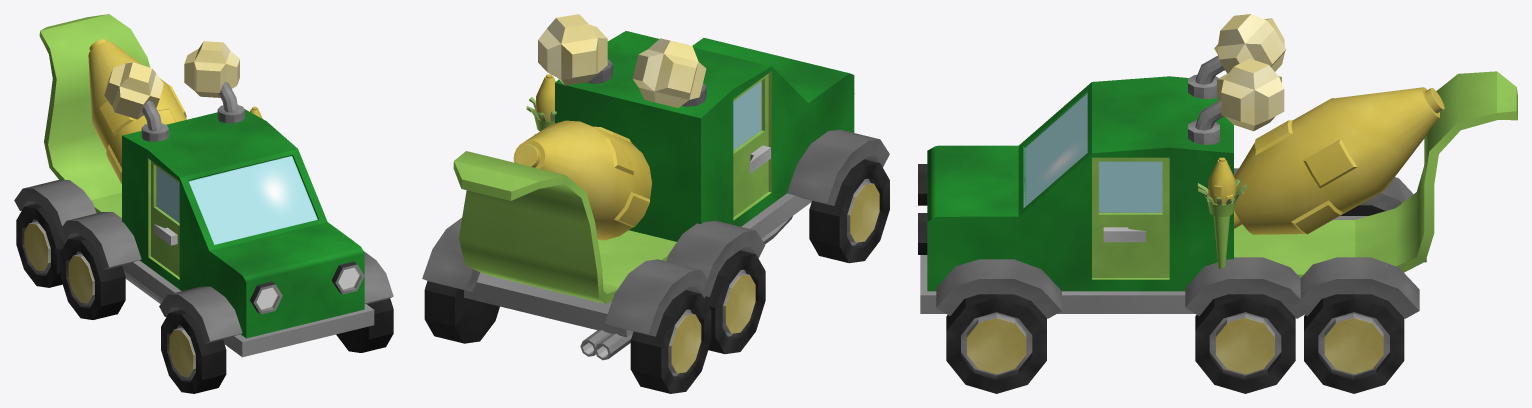
Rendered from corn_mobile_v1.fbx.
3 renders of one model, left to right at view 1: azimuth 30°, elevation 25°; view 2: azimuth 150°, elevation 25°; view 3: azimuth 270°, elevation 25°, orthographic. The views are drawn at different scales.
Visible parts, largest first — view 1: truck_body, corn_husk, corn1, wheelFront_L1, wheelFront_L4, truck_base, wheelFront_L5, pCube4, pCube10, popcorn_L, popcorn_R, pCube11 (+6 smaller); view 2: truck_body, corn_husk, corn1, wheelFront_L5, wheelFront_L1, truck_base, wheelFront_L4, pCube11, pCube4, popcorn_L, popcorn_R, pCube10 (+5 smaller); view 3: truck_body, corn1, corn_husk, wheelFront_L, wheelFront_L2, wheelFront_L3, pCube7, pCube1, pCube6, truck_base, popcorn_L, popcorn_R (+5 smaller).
Part boxes in pixels (left/top/right/bottom): truck_body: left=122, top=109, right=364, bottom=338; corn_husk: left=39, top=14, right=150, bottom=217; corn1: left=88, top=39, right=186, bottom=183; wheelFront_L1: left=161, top=309, right=226, bottom=393; wheelFront_L4: left=60, top=236, right=125, bottom=319; truck_base: left=122, top=260, right=374, bottom=357; wheelFront_L5: left=16, top=203, right=65, bottom=287; pCube4: left=159, top=286, right=242, bottom=343; pCube10: left=59, top=212, right=141, bottom=269; popcorn_L: left=184, top=41, right=239, bottom=97; popcorn_R: left=104, top=62, right=163, bottom=119; pCube11: left=14, top=180, right=96, bottom=237; truck_body: left=555, top=31, right=854, bottom=241; corn_husk: left=453, top=151, right=676, bottom=303; corn1: left=513, top=120, right=651, bottom=240; wheelFront_L5: left=630, top=290, right=711, bottom=393; wheelFront_L1: left=809, top=159, right=889, bottom=263; truck_base: left=464, top=193, right=811, bottom=337; wheelFront_L4: left=704, top=250, right=765, bottom=354; pCube11: left=604, top=259, right=707, bottom=336; pCube4: left=787, top=129, right=889, bottom=205; popcorn_L: left=538, top=14, right=607, bottom=85; popcorn_R: left=632, top=38, right=706, bottom=107; pCube10: left=666, top=220, right=765, bottom=296; truck_body: left=927, top=76, right=1233, bottom=291; corn1: left=1234, top=87, right=1444, bottom=234; corn_husk: left=1234, top=71, right=1517, bottom=277; wheelFront_L: left=946, top=294, right=1046, bottom=393; wheelFront_L2: left=1195, top=294, right=1295, bottom=393; wheelFront_L3: left=1304, top=294, right=1404, bottom=393; pCube7: left=1294, top=257, right=1419, bottom=318; pCube1: left=936, top=259, right=1062, bottom=318; pCube6: left=1185, top=257, right=1310, bottom=318; truck_base: left=920, top=216, right=1367, bottom=313; popcorn_L: left=1217, top=58, right=1284, bottom=131; popcorn_R: left=1214, top=14, right=1285, bottom=73.
Bounding box in the file's own units: 4.26 × 5.11 × 9.34.
1 material, 1 textured.
